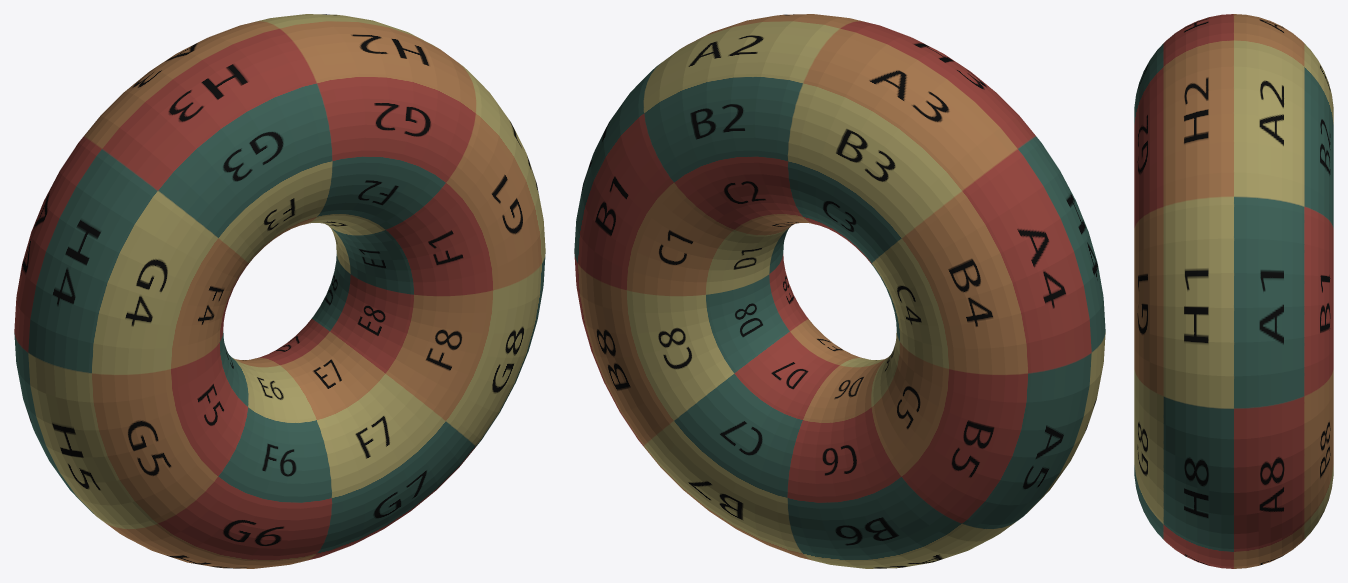
The model's file is texture_torus_R11_r29.glb.
3 renders of one model, left to right at view 1: azimuth 30°, elevation 25°; view 2: azimuth 150°, elevation 25°; view 3: azimuth 270°, elevation 25°, orthographic. The views are drawn at different scales.
Parts seen in each view (by area): view 1: world; view 2: world; view 3: world.
Part boxes in pixels (<box>): world: <box>14,14,545,568</box>; world: <box>574,14,1105,568</box>; world: <box>1134,14,1333,568</box>.
Bounding box in the file's own units: 27.07 × 27.01 × 9.71.
Materials: 1 (1 with a texture image).
